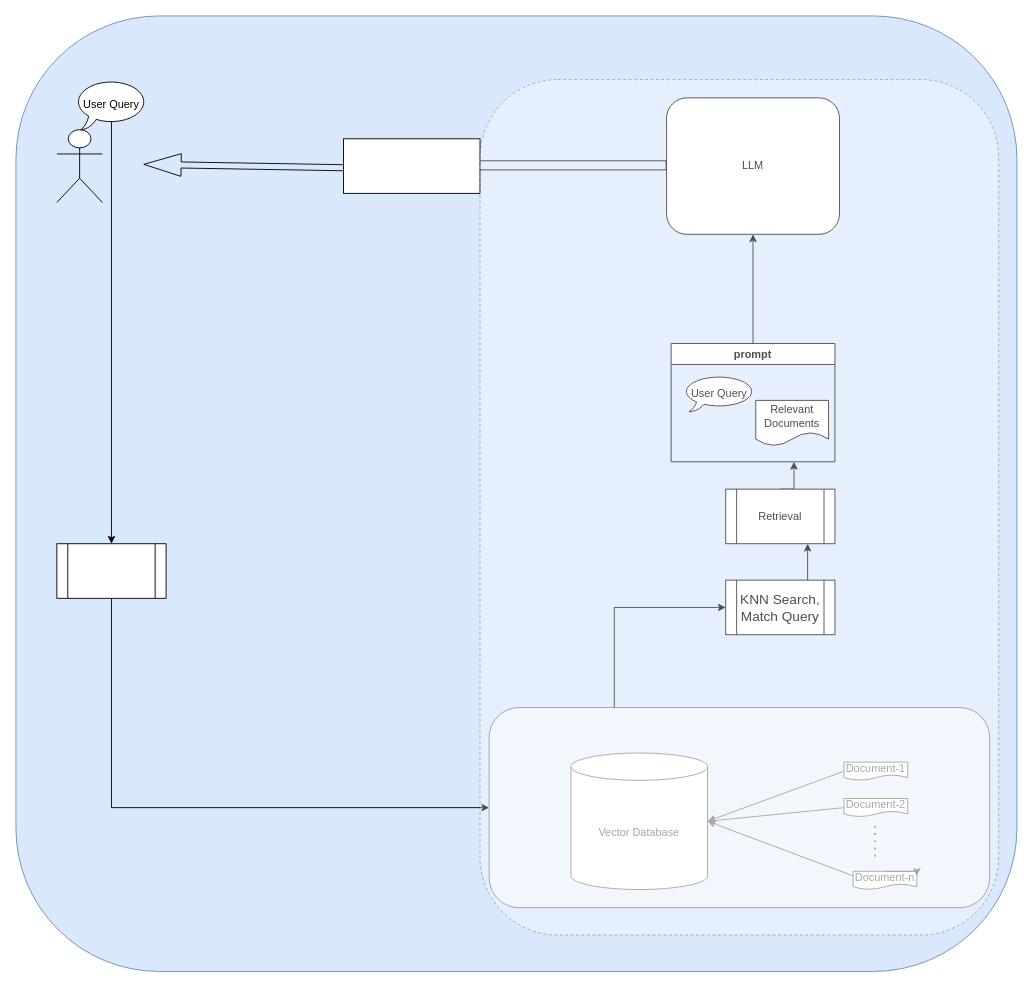
This 1033x987 diagram has some shape labels left out. The centre of each missing label's shape, as x and y in pixels:
Actor: point 79,165
Generate Embeding: point 111,570
LLM Response: point 411,165
